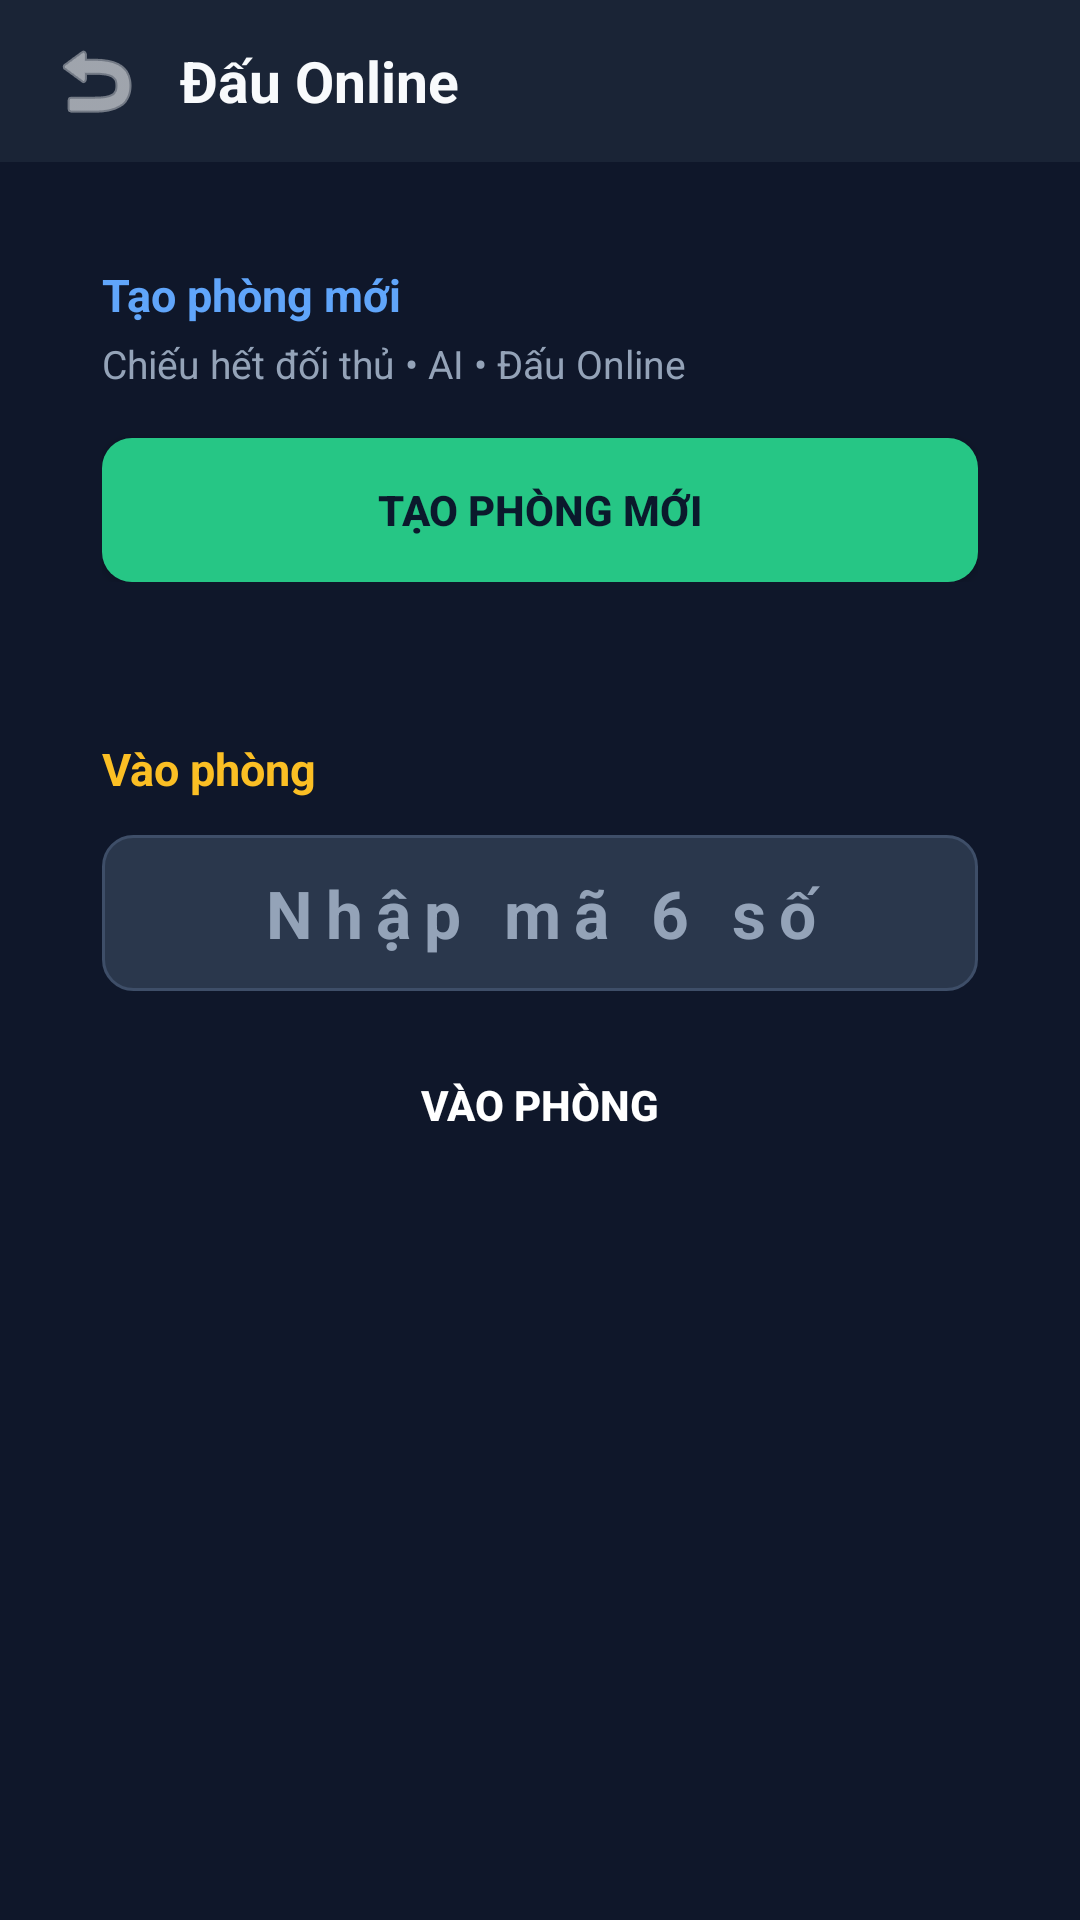

Icons on this 1080x1920 Android screen, each with the point to tap as (x,y):
Back: (97,81)
